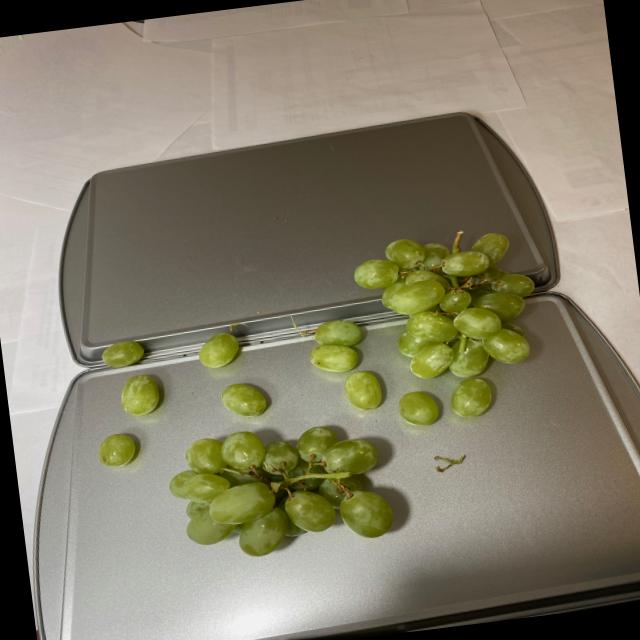grapes: (76, 224, 562, 569)
